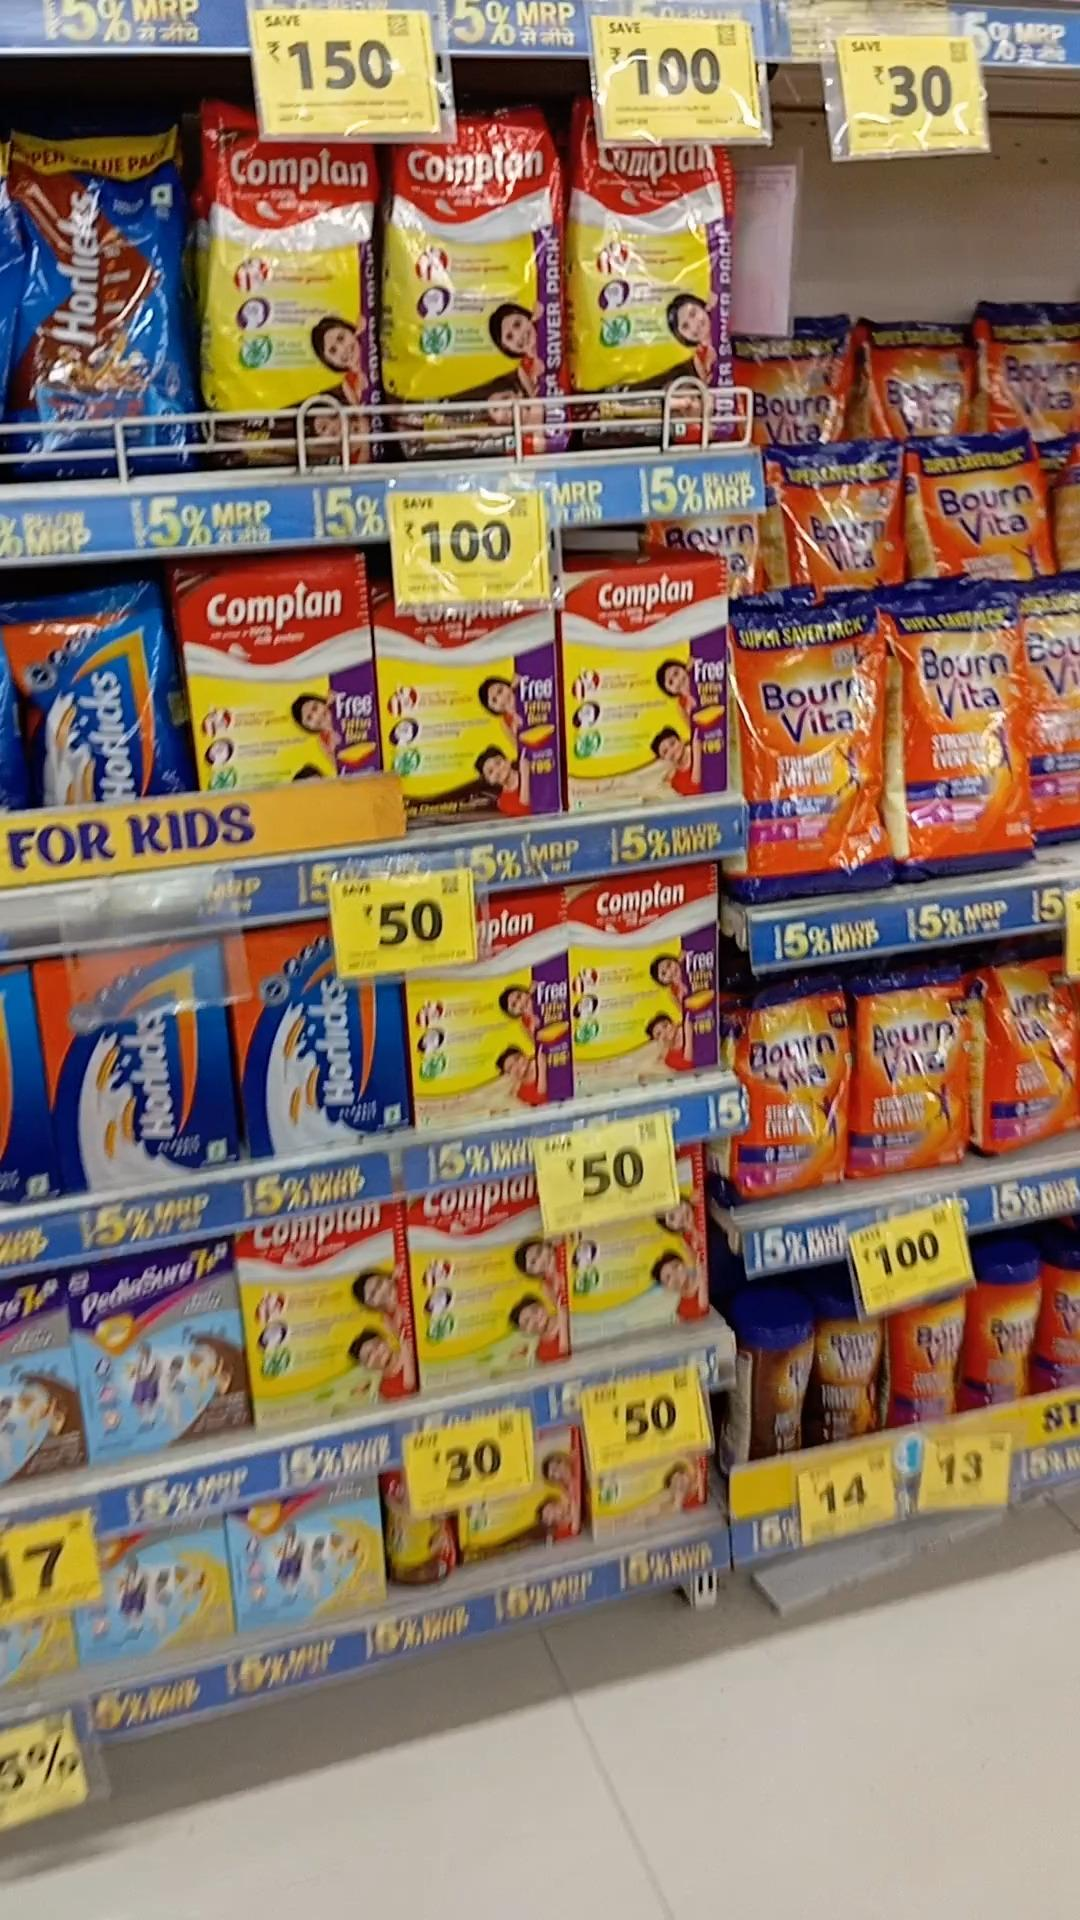BOURN_VITA_1_KG_POUCH: (735, 611, 885, 906), (902, 592, 1033, 881), (909, 431, 1043, 585), (782, 444, 903, 597)
BOURN_VITA_500_G_JAR: (973, 1251, 1044, 1407), (893, 1294, 964, 1432)
BOURN_VITA_750_G_POUCH: (732, 986, 845, 1204), (848, 989, 969, 1184), (996, 955, 1080, 1156)
BOURN_VITA_FIVE_STAR_MAGIC_500_G_JAR: (815, 1296, 881, 1440), (756, 1315, 814, 1453)
COMPLAN_CHOCOLATE_500_GMS_PACK: (174, 549, 357, 804), (373, 585, 554, 825)
COMPLAN_CREAMY_CLASSIC_500_G_PACK: (576, 1174, 703, 1350)
COMPLAN_KESAR_BADAM_500_GMS_PACK: (570, 575, 731, 815), (570, 857, 720, 1089), (413, 891, 562, 1125)
COMPLAN_PISTA_BADAM_500_GMS_PACK: (244, 1208, 405, 1431), (413, 1168, 571, 1379)
COMPLAN_RC_POUCH_700_GMS_12: (207, 109, 377, 469), (570, 88, 741, 443), (389, 105, 555, 460)
HORLICK_CHOCOLATE_750_G_POUCH: (8, 129, 181, 479)
HORLICK_CLASSIC_MALT_500_G_PACK: (235, 920, 400, 1167), (54, 940, 218, 1184)
HORLICK_CLASSIC_MALT_750_G_POUCH: (12, 566, 173, 816)
PEDIASURE_7_PLUS_CHOCOLATE_400_G_PACK: (83, 1242, 240, 1461)
